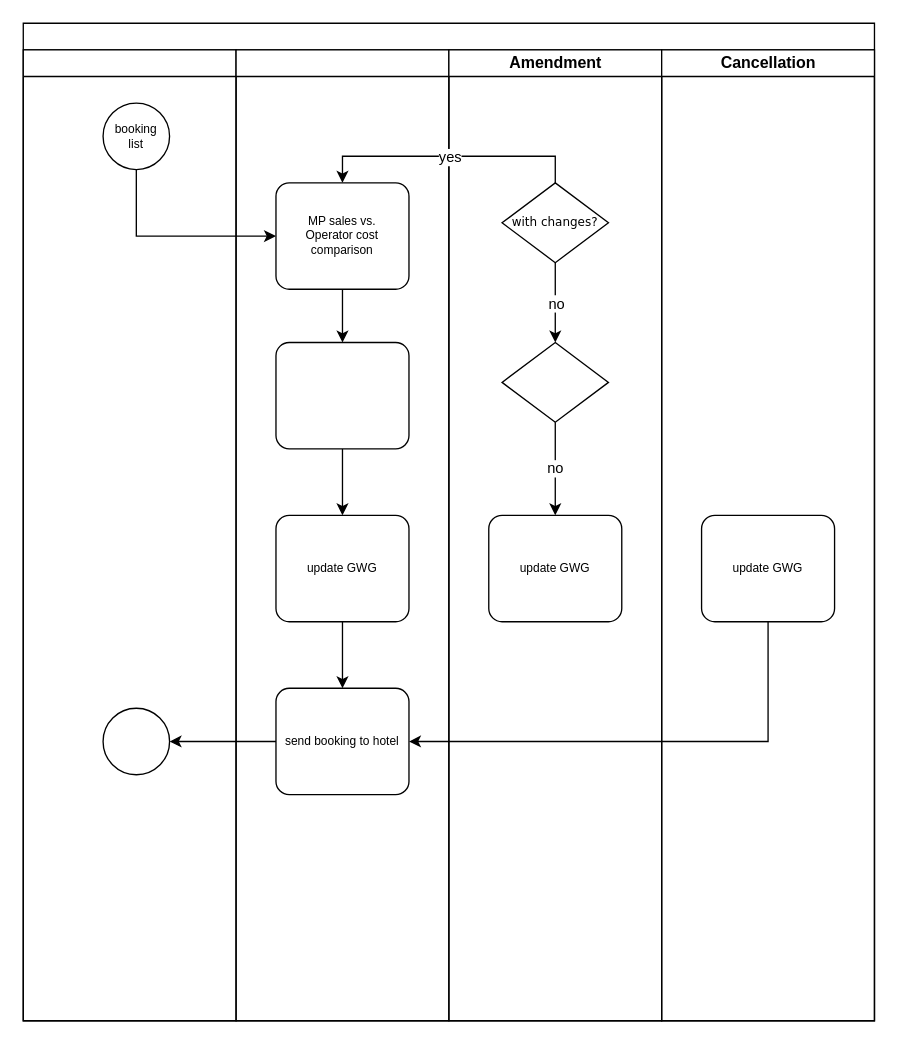
Some shapes in this 898 by 1044 pixel diagram are drawn without their labels. Each missing label, with the box of its shape:
end: (102, 707, 170, 775)
is GWG rate correct?: (501, 341, 608, 422)
New: (235, 49, 449, 1021)
store data and send to reservations team: (275, 341, 409, 449)
